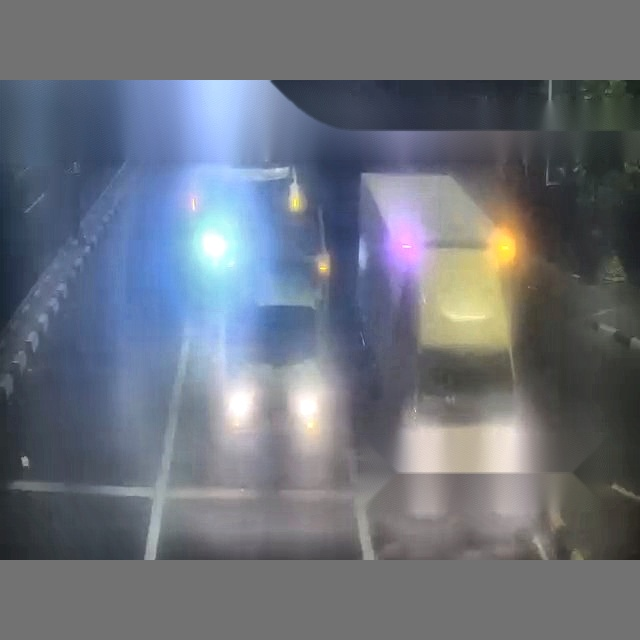Bis: (0, 82, 433, 558)
Truk: (357, 174, 529, 352)
